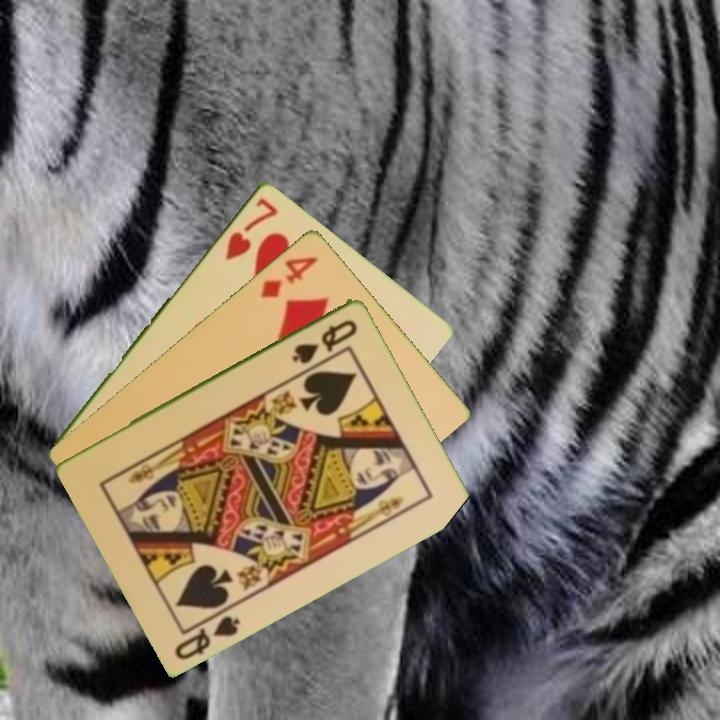4d: (257, 252, 321, 301)
7h: (221, 193, 281, 263)
Qs: (171, 602, 244, 662), (288, 315, 361, 366)
